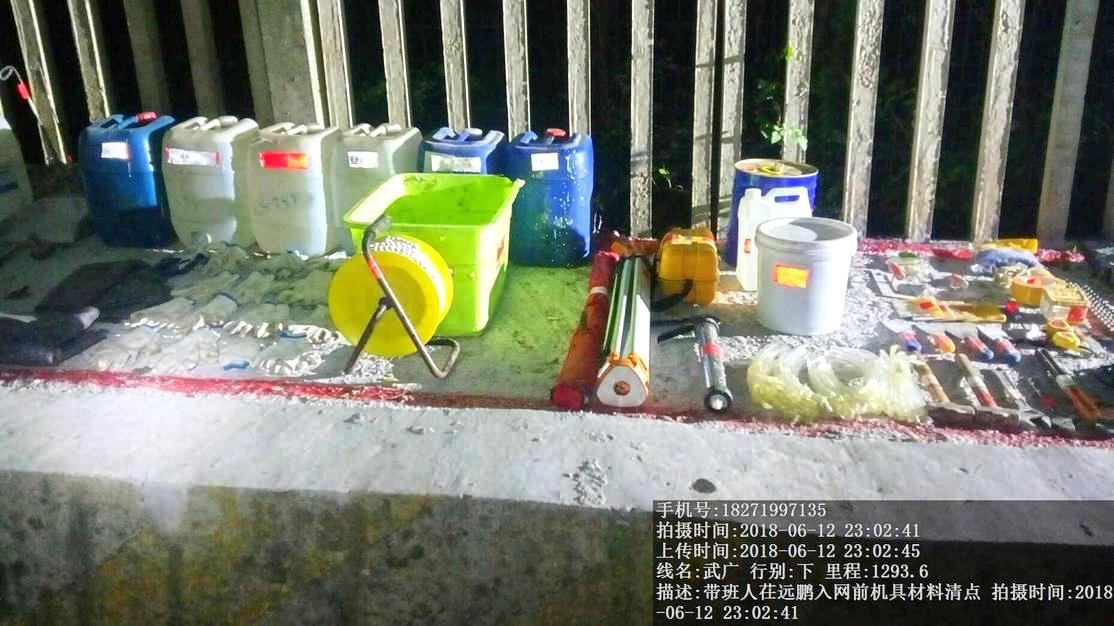DX: (336, 237, 467, 381)
